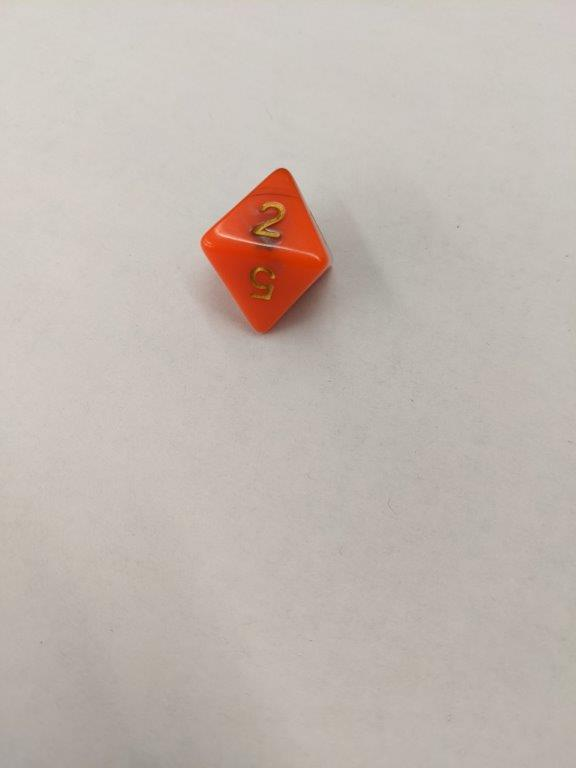d8-2: (197, 165, 336, 337)
